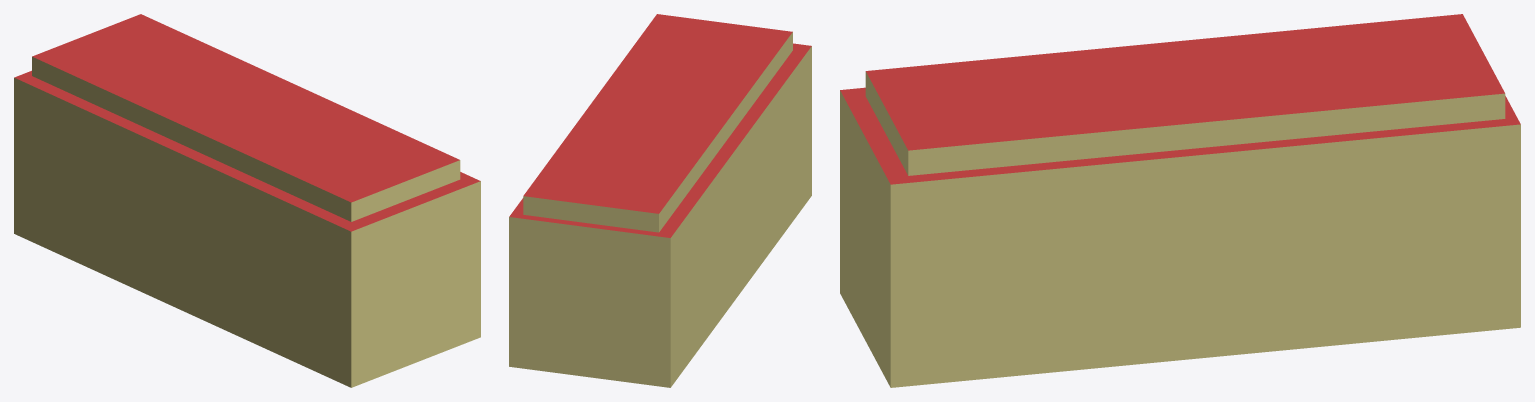
3 renders of one model, left to right at view 1: azimuth 30°, elevation 25°; view 2: azimuth 150°, elevation 25°; view 3: azimuth 270°, elevation 25°, orthographic. The views are drawn at different scales.
Visible parts, largest first — view 1: group_6, group_4, group_5, group_3; view 2: group_6, group_4, group_5, group_3; view 3: group_6, group_4, group_5, group_3.
Boxes of the visible parts, bbox=[...] form: group_6: bbox=[14, 77, 480, 387]; group_4: bbox=[32, 14, 459, 202]; group_5: bbox=[32, 56, 460, 221]; group_3: bbox=[14, 70, 480, 231]; group_6: bbox=[509, 46, 811, 387]; group_4: bbox=[523, 14, 792, 213]; group_5: bbox=[523, 32, 792, 232]; group_3: bbox=[509, 43, 811, 237]; group_6: bbox=[840, 90, 1520, 387]; group_4: bbox=[866, 14, 1504, 150]; group_5: bbox=[865, 71, 1505, 175]; group_3: bbox=[840, 87, 1520, 184].
Size of the model in its own units: 22.88 by 42.51 by 15.75.
